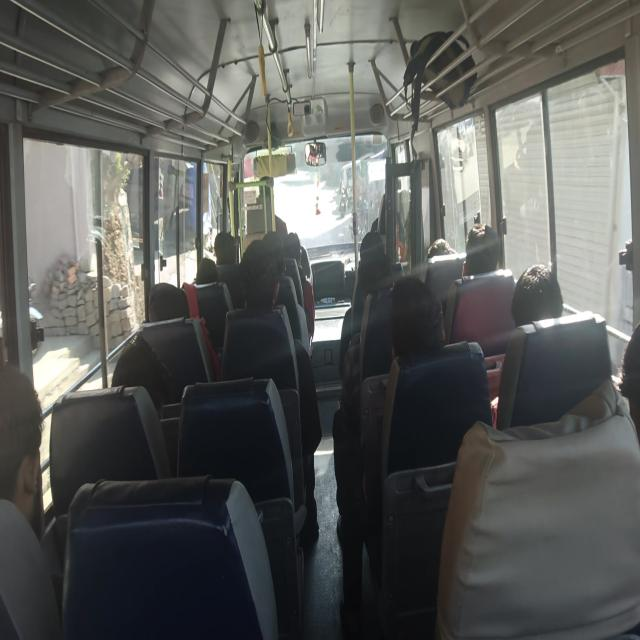person: (4, 385, 66, 531), (398, 268, 453, 372), (503, 263, 561, 334), (120, 338, 162, 424), (247, 258, 279, 332), (458, 220, 496, 278), (268, 231, 301, 289), (146, 273, 184, 318), (364, 260, 394, 296), (195, 258, 224, 295), (208, 238, 232, 274), (283, 222, 303, 260), (358, 230, 378, 263), (425, 248, 448, 268)
